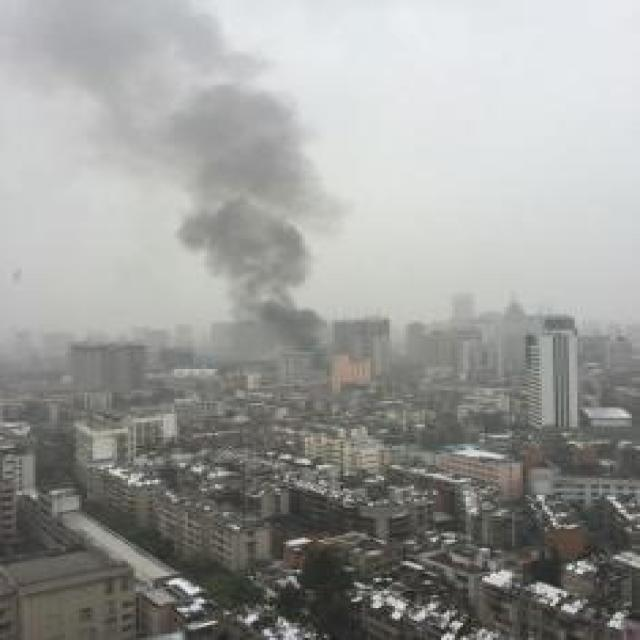smoke: (12, 0, 358, 388)
